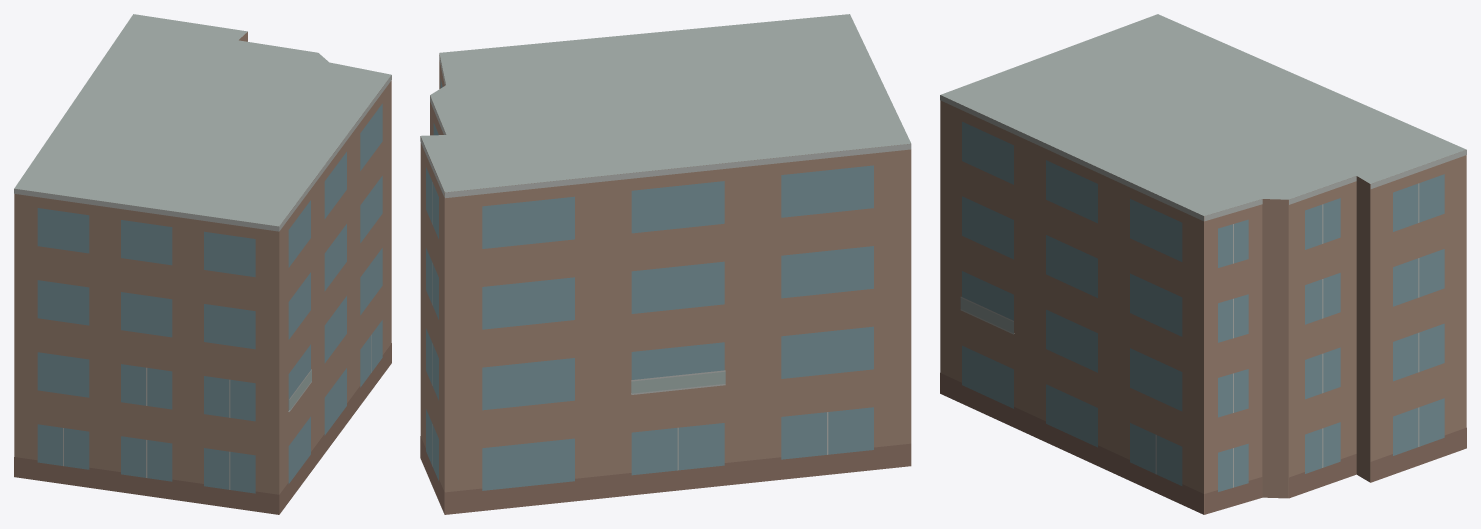
Rendered from survey-upis-32833654.glb.
3 renders of one model, left to right at view 1: azimuth 30°, elevation 25°; view 2: azimuth 150°, elevation 25°; view 3: azimuth 270°, elevation 25°, orthographic. The views are drawn at different scales.
Visible parts, largest first — view 1: survey-upis-32833654.tmp; view 2: survey-upis-32833654.tmp; view 3: survey-upis-32833654.tmp.
Part boxes in pixels (<box>): survey-upis-32833654.tmp: <box>14,14,391,514</box>; survey-upis-32833654.tmp: <box>420,14,911,514</box>; survey-upis-32833654.tmp: <box>940,14,1466,514</box>.
Bounding box in the file's own units: 19.75 × 13.6 × 21.73.
